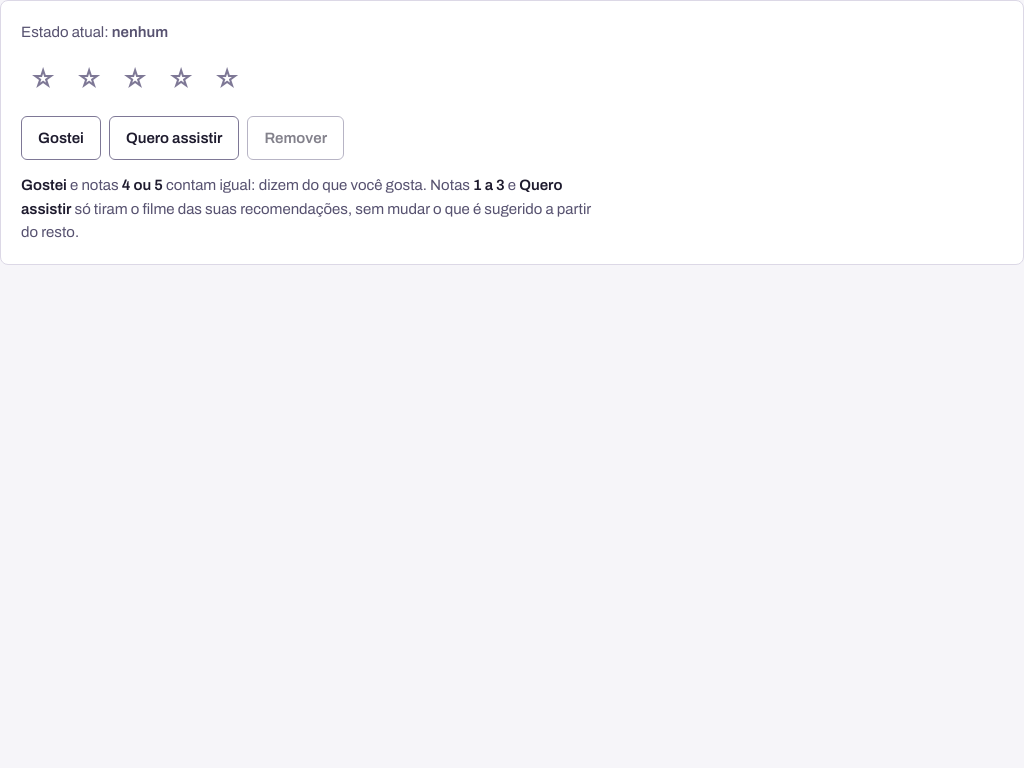
it: ControleInteracao: falha de rede numa escrita (spec 7) › mostra a frase e o botão "Tentar de novo", que repete a escrita
The image size is (1024, 768).
Click the button "Gostei". click: click(61, 138)
box: [21,116,101,160]
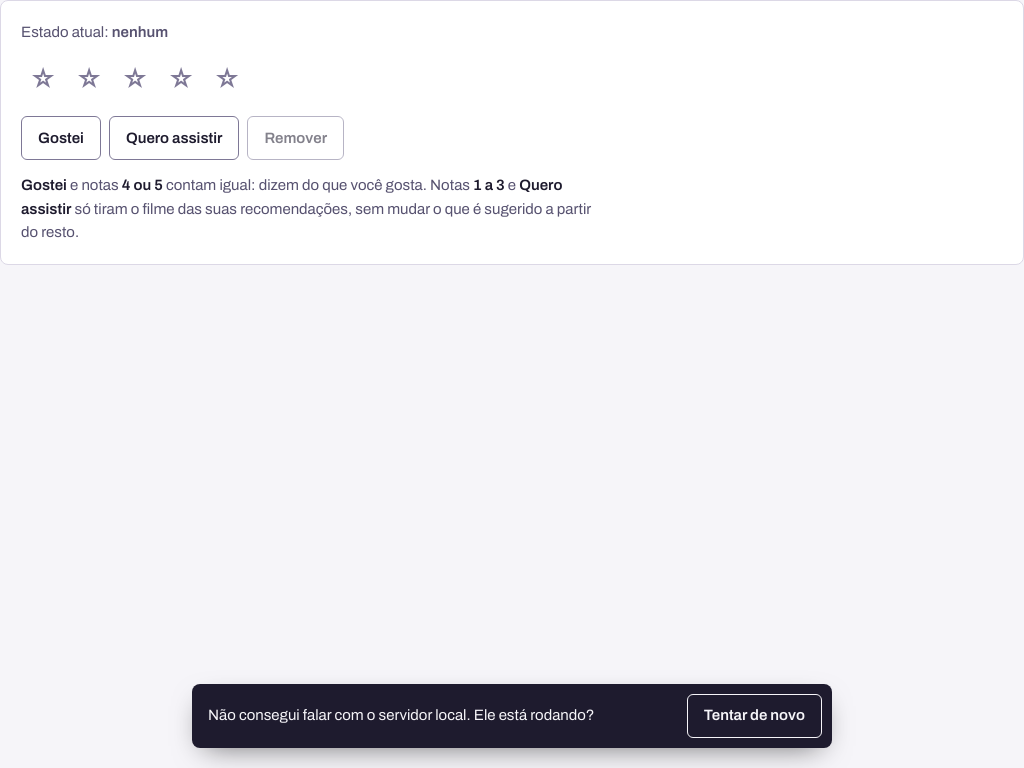
Result: the text "Não consegui falar com o servidor local. Ele está rodando?" is shown at [208,704,594,728]
Click the button "Tentar de novo". click: click(754, 716)
box: [687,694,822,738]
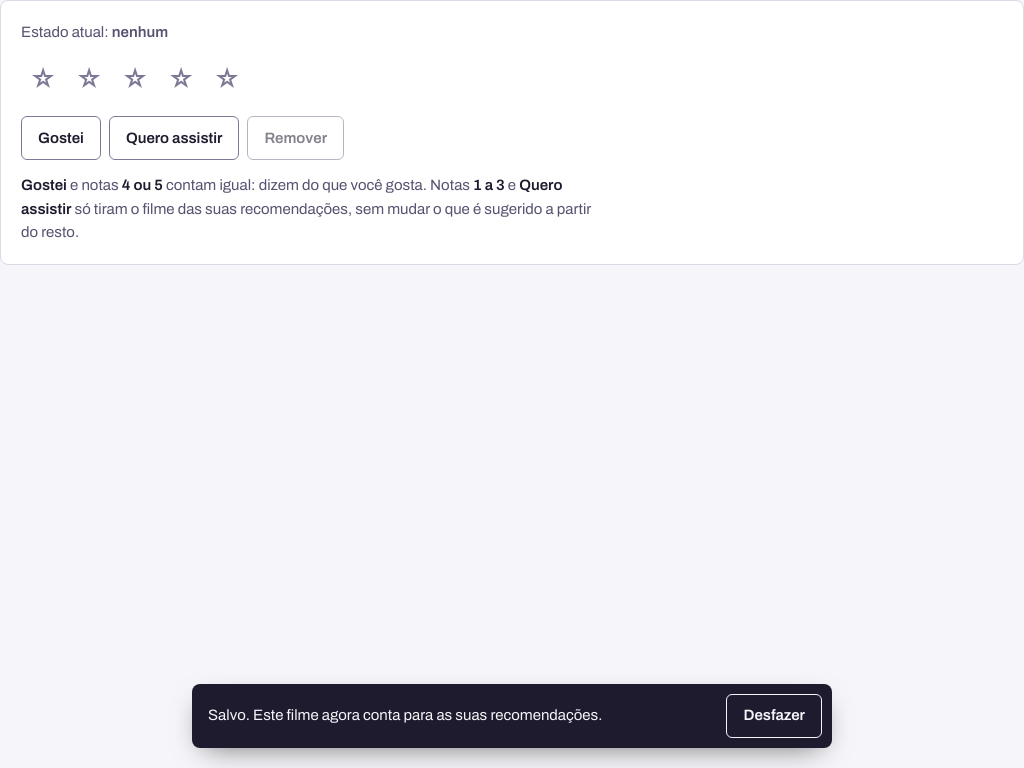
Result: the text "Salvo. Este filme agora conta para as suas recomendações." is shown at [208,704,602,728]
